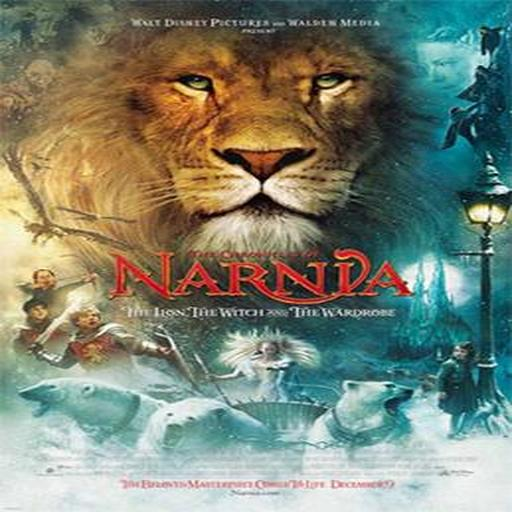Lion: (14, 0, 473, 275)
